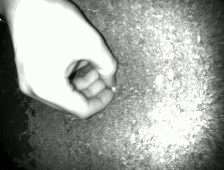corn: (152, 72, 166, 87), (109, 84, 117, 93)
